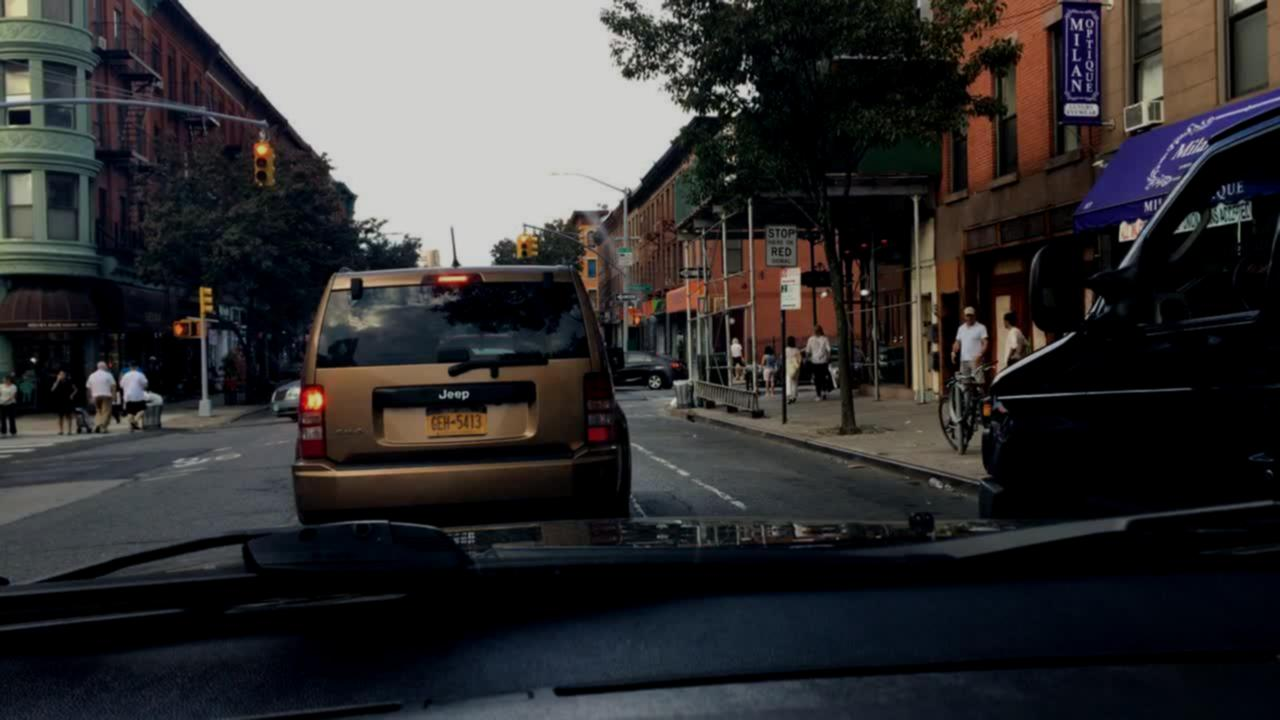jeep: (429, 381, 476, 406)
